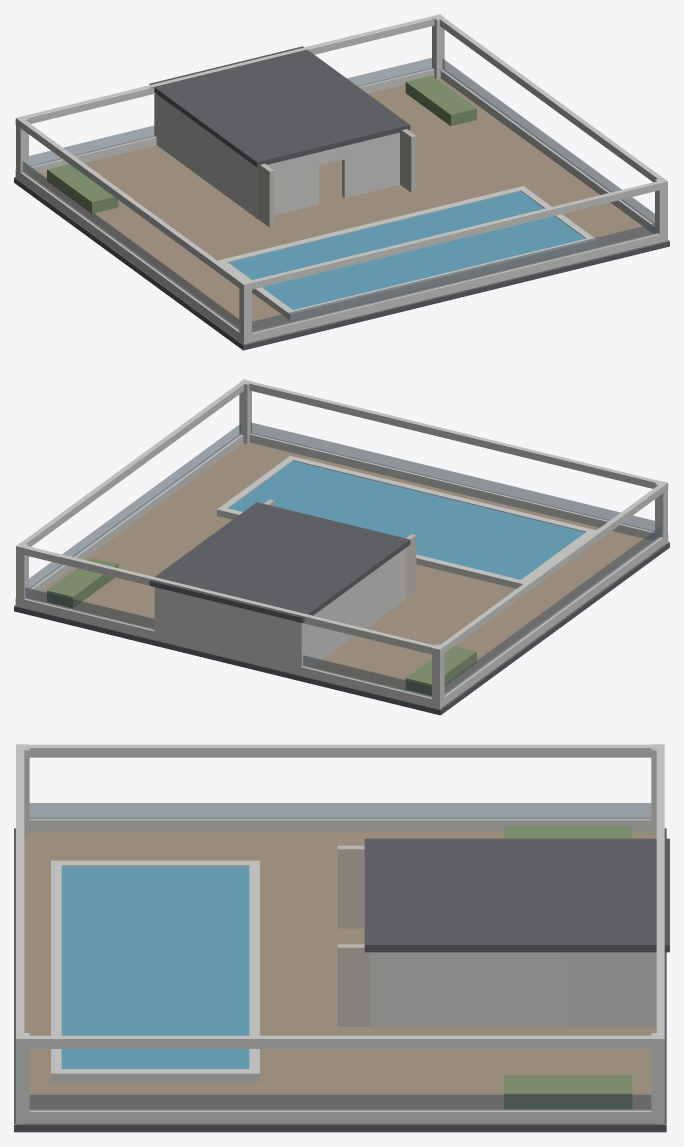
The model's file is condo-roof-b.glass-v1.lod0.glb.
3 renders of one model, top to bottom at view 1: azimuth 30°, elevation 25°; view 2: azimuth 150°, elevation 25°; view 3: azimuth 270°, elevation 25°, orthographic. The views are drawn at different scales.
Parts seen in each view (by area): view 1: condo-roof-b; view 2: condo-roof-b; view 3: condo-roof-b.
Part boxes in pixels (x1,y1,x2,y2): condo-roof-b: (14, 14, 669, 350); condo-roof-b: (14, 379, 669, 715); condo-roof-b: (14, 744, 669, 1132).
Size of the model in its own units: 26.16 by 3.84 by 24.48.
